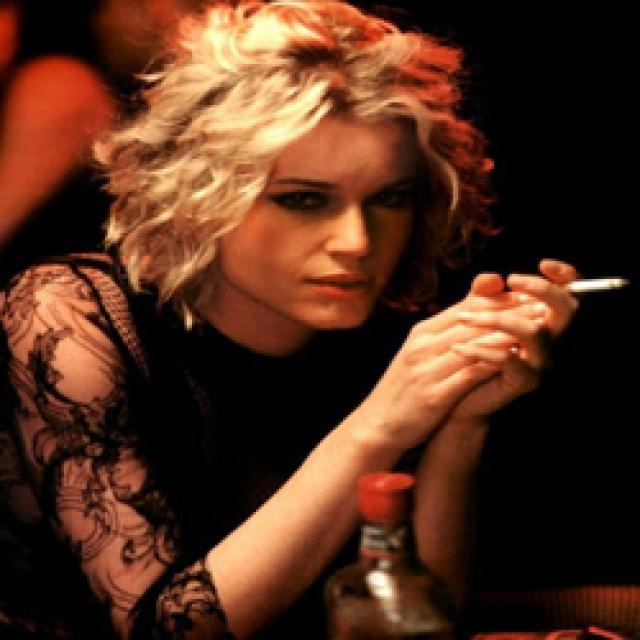Smooking: (550, 262, 626, 303)
